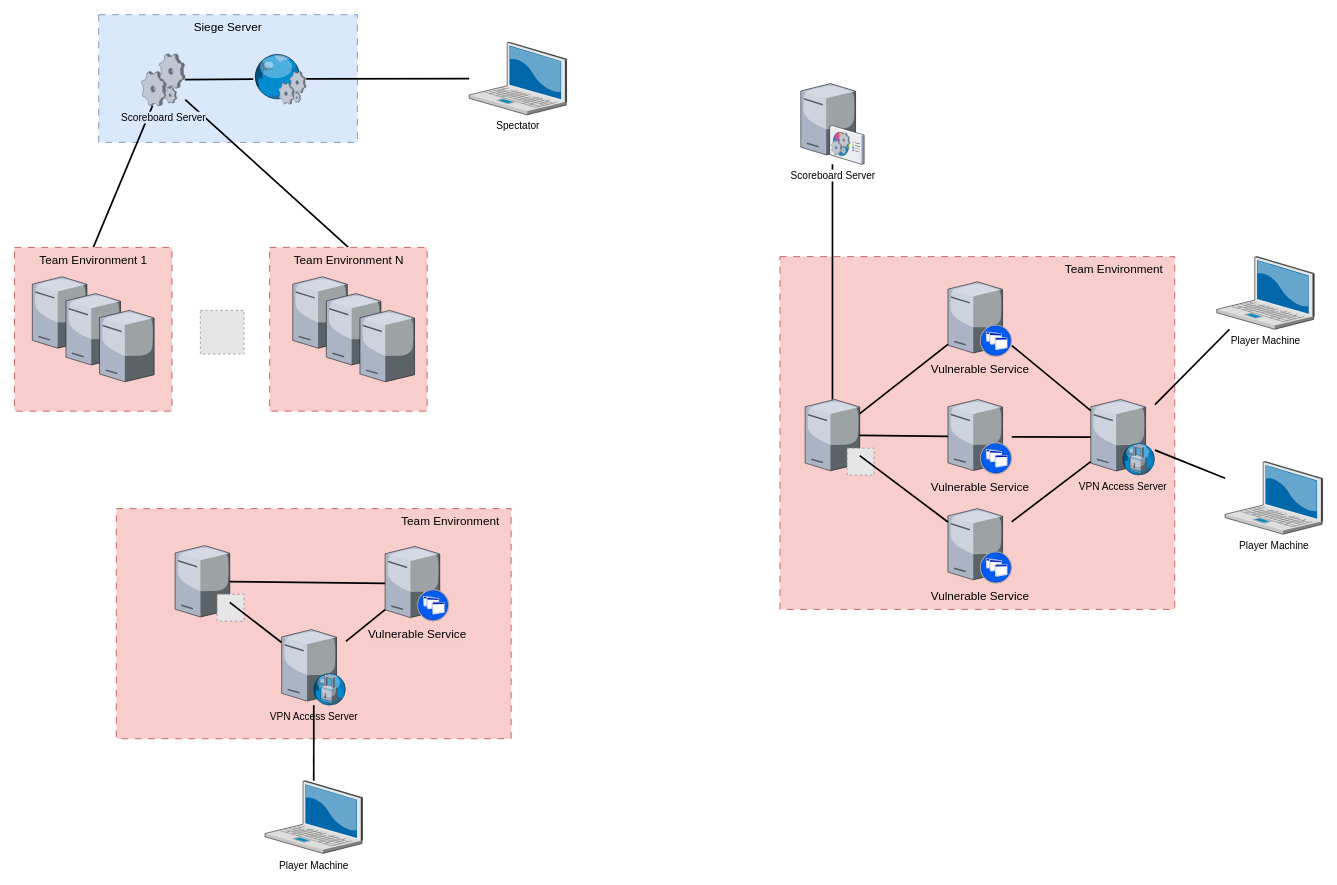
This 1337x885 diagram has some shape labels left out. Grey dashed boxes stand in for pictures. The centre of each missing label's shape, as x and y in pixels:
Attack Bot: point (832, 434)
Attack Portal: point (202, 581)
Web Server: point (279, 78)
